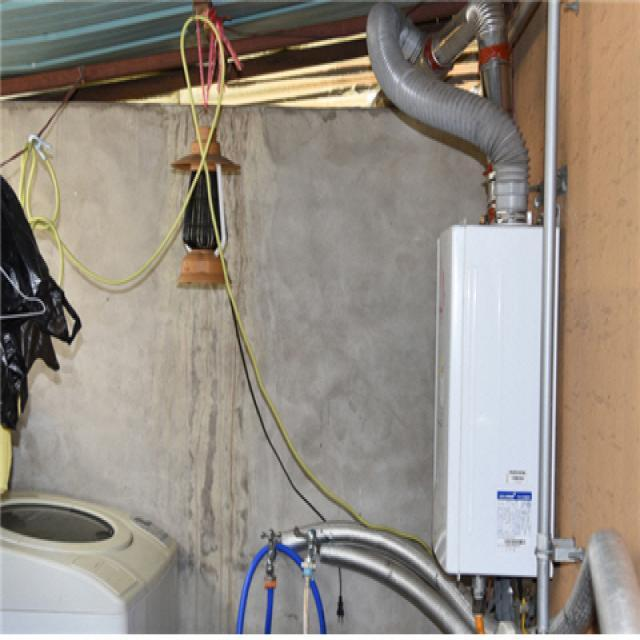Boiler: (432, 212, 568, 588)
